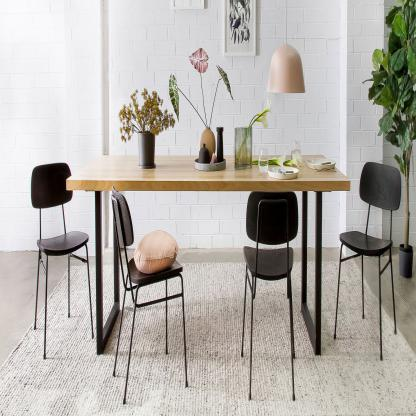chair: (107, 188, 196, 409), (13, 154, 99, 359), (333, 154, 406, 365), (239, 185, 307, 398)
light: (267, 0, 307, 98)
table: (65, 154, 349, 359)
